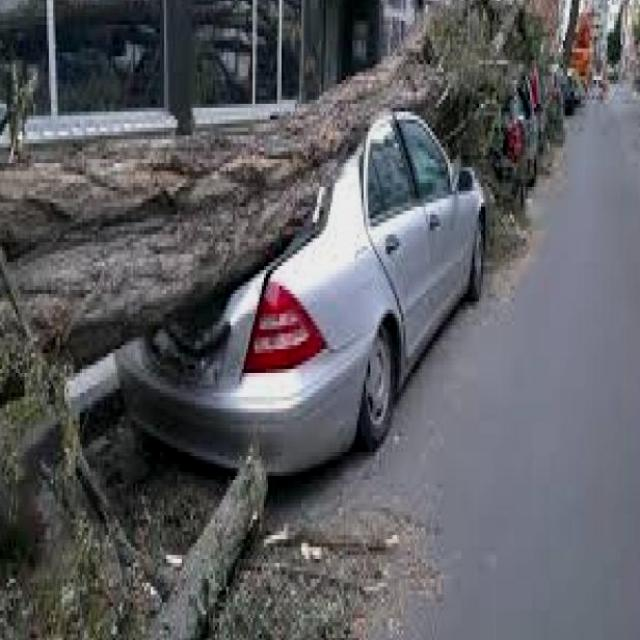fallen_object: (0, 0, 610, 425)
